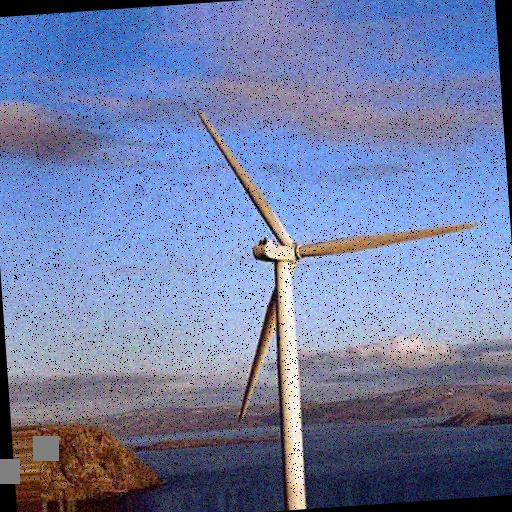wind turbine: (192, 103, 482, 505)
